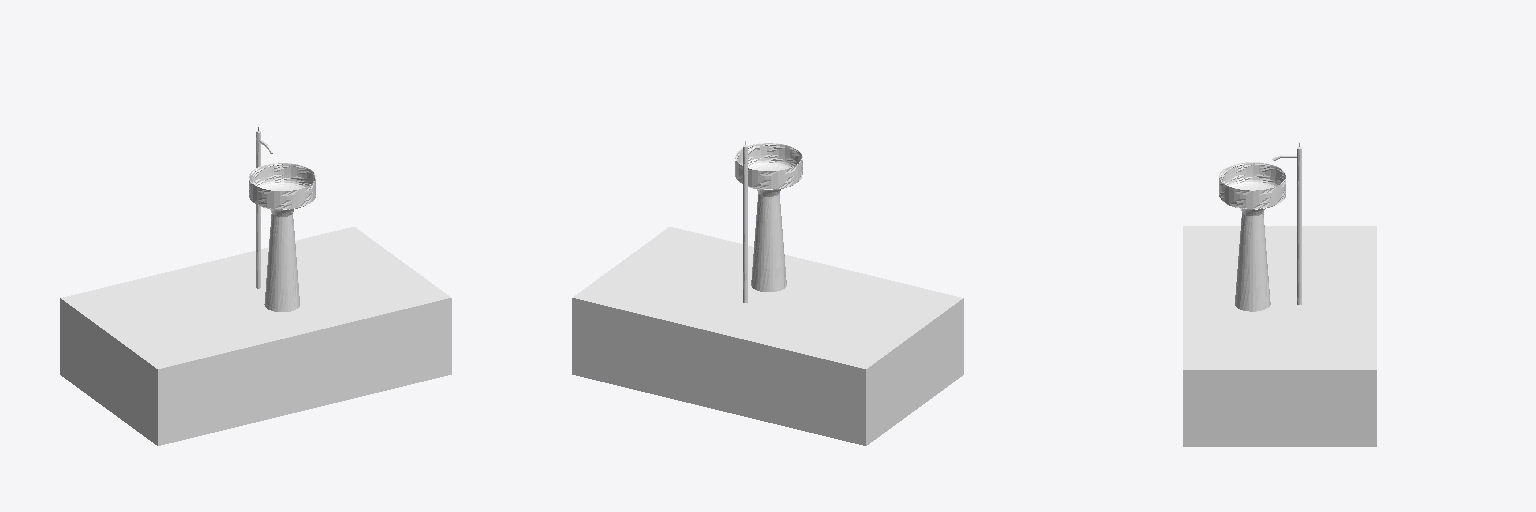
The model's file is 866211_Lavandino.obj.
3 views of the same model, side by side, from view 1: azimuth 30°, elevation 25°; view 2: azimuth 150°, elevation 25°; view 3: azimuth 270°, elevation 25° (orthographic).
Parts seen in each view (by area): view 1: Box001, lavello, tubo; view 2: Box001, lavello, tubo; view 3: Box001, lavello, tubo.
Part boxes in pixels (x1,y1,x2,y2): Box001: (60, 227, 451, 445); lavello: (249, 163, 315, 311); tubo: (256, 127, 260, 288); Box001: (572, 227, 963, 445); lavello: (735, 143, 802, 291); tubo: (743, 141, 747, 302); Box001: (1183, 226, 1376, 446); lavello: (1219, 162, 1285, 311); tubo: (1297, 143, 1301, 304).
Size of the model in its own units: 85.3 by 65.94 by 48.97.